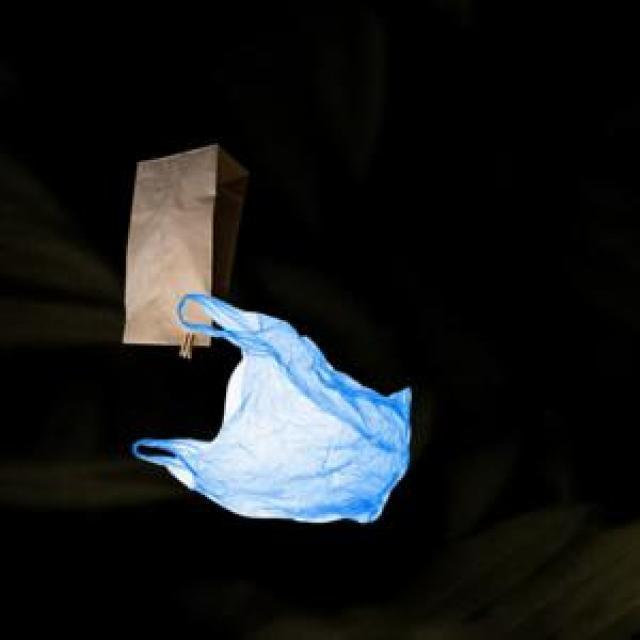paper: (120, 141, 245, 352)
